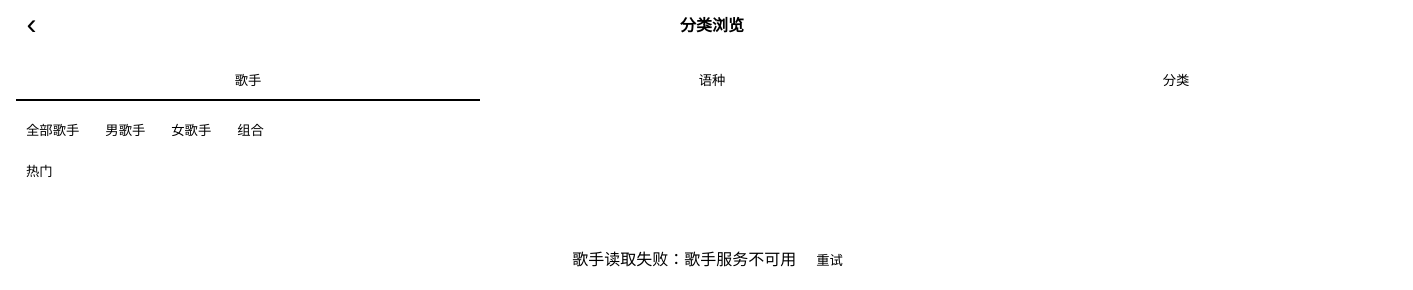
it: CategoryBrowseView › shows an artist error and retries both the page and initial requests
Step 1. Click the button with class "retry" → (830, 260), box [807, 246, 852, 273]
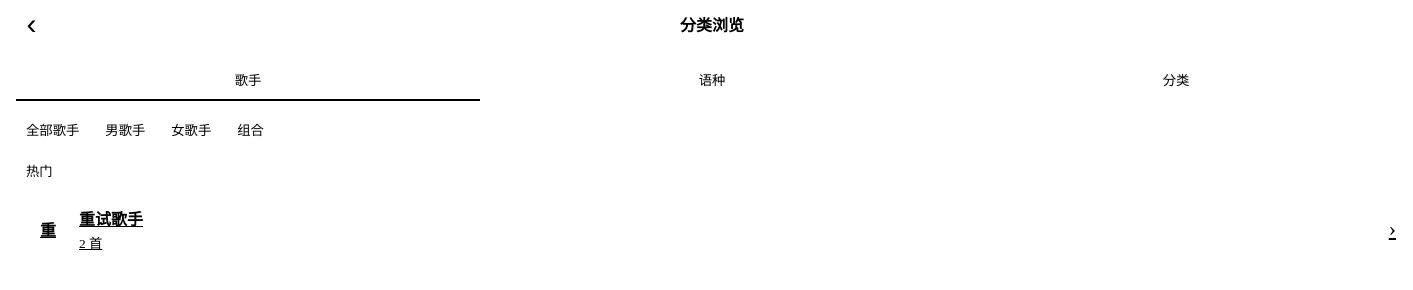
Expected: the text "重试歌手" is shown, [79, 211, 143, 228]
